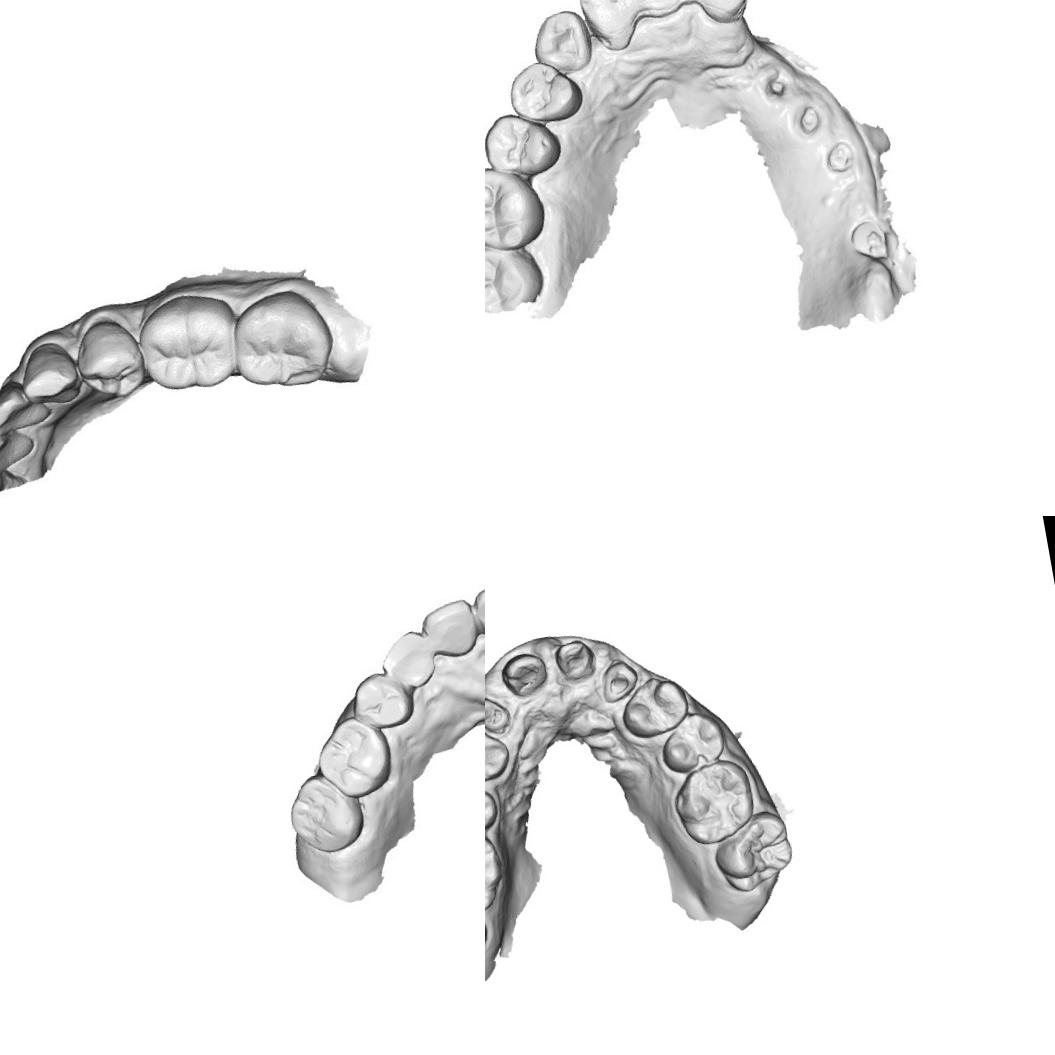canine: (14, 335, 84, 414), (527, 5, 597, 76), (375, 624, 442, 694)
crown: (496, 648, 552, 702), (550, 636, 599, 684), (596, 656, 643, 704), (485, 691, 515, 737)
incisor: (416, 594, 480, 661), (0, 376, 49, 443), (575, 0, 642, 48), (0, 424, 44, 477), (688, 0, 758, 30), (626, 0, 704, 24), (468, 577, 485, 646)
molar: (134, 280, 246, 396), (225, 284, 336, 398), (665, 754, 760, 850), (706, 805, 799, 897), (280, 766, 371, 860), (308, 710, 398, 804), (485, 158, 551, 257), (485, 237, 545, 318), (485, 823, 510, 921)
premolar: (70, 314, 150, 403), (485, 104, 567, 183), (503, 55, 587, 129), (615, 671, 694, 743), (654, 708, 729, 776), (345, 665, 416, 733), (485, 719, 514, 789), (485, 772, 502, 837)
